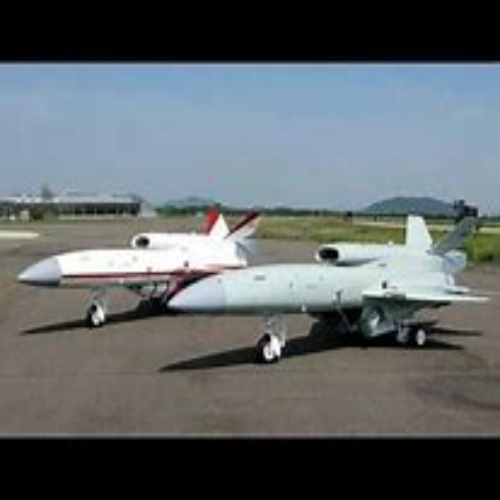uav: (171, 216, 490, 365), (16, 207, 255, 328)
